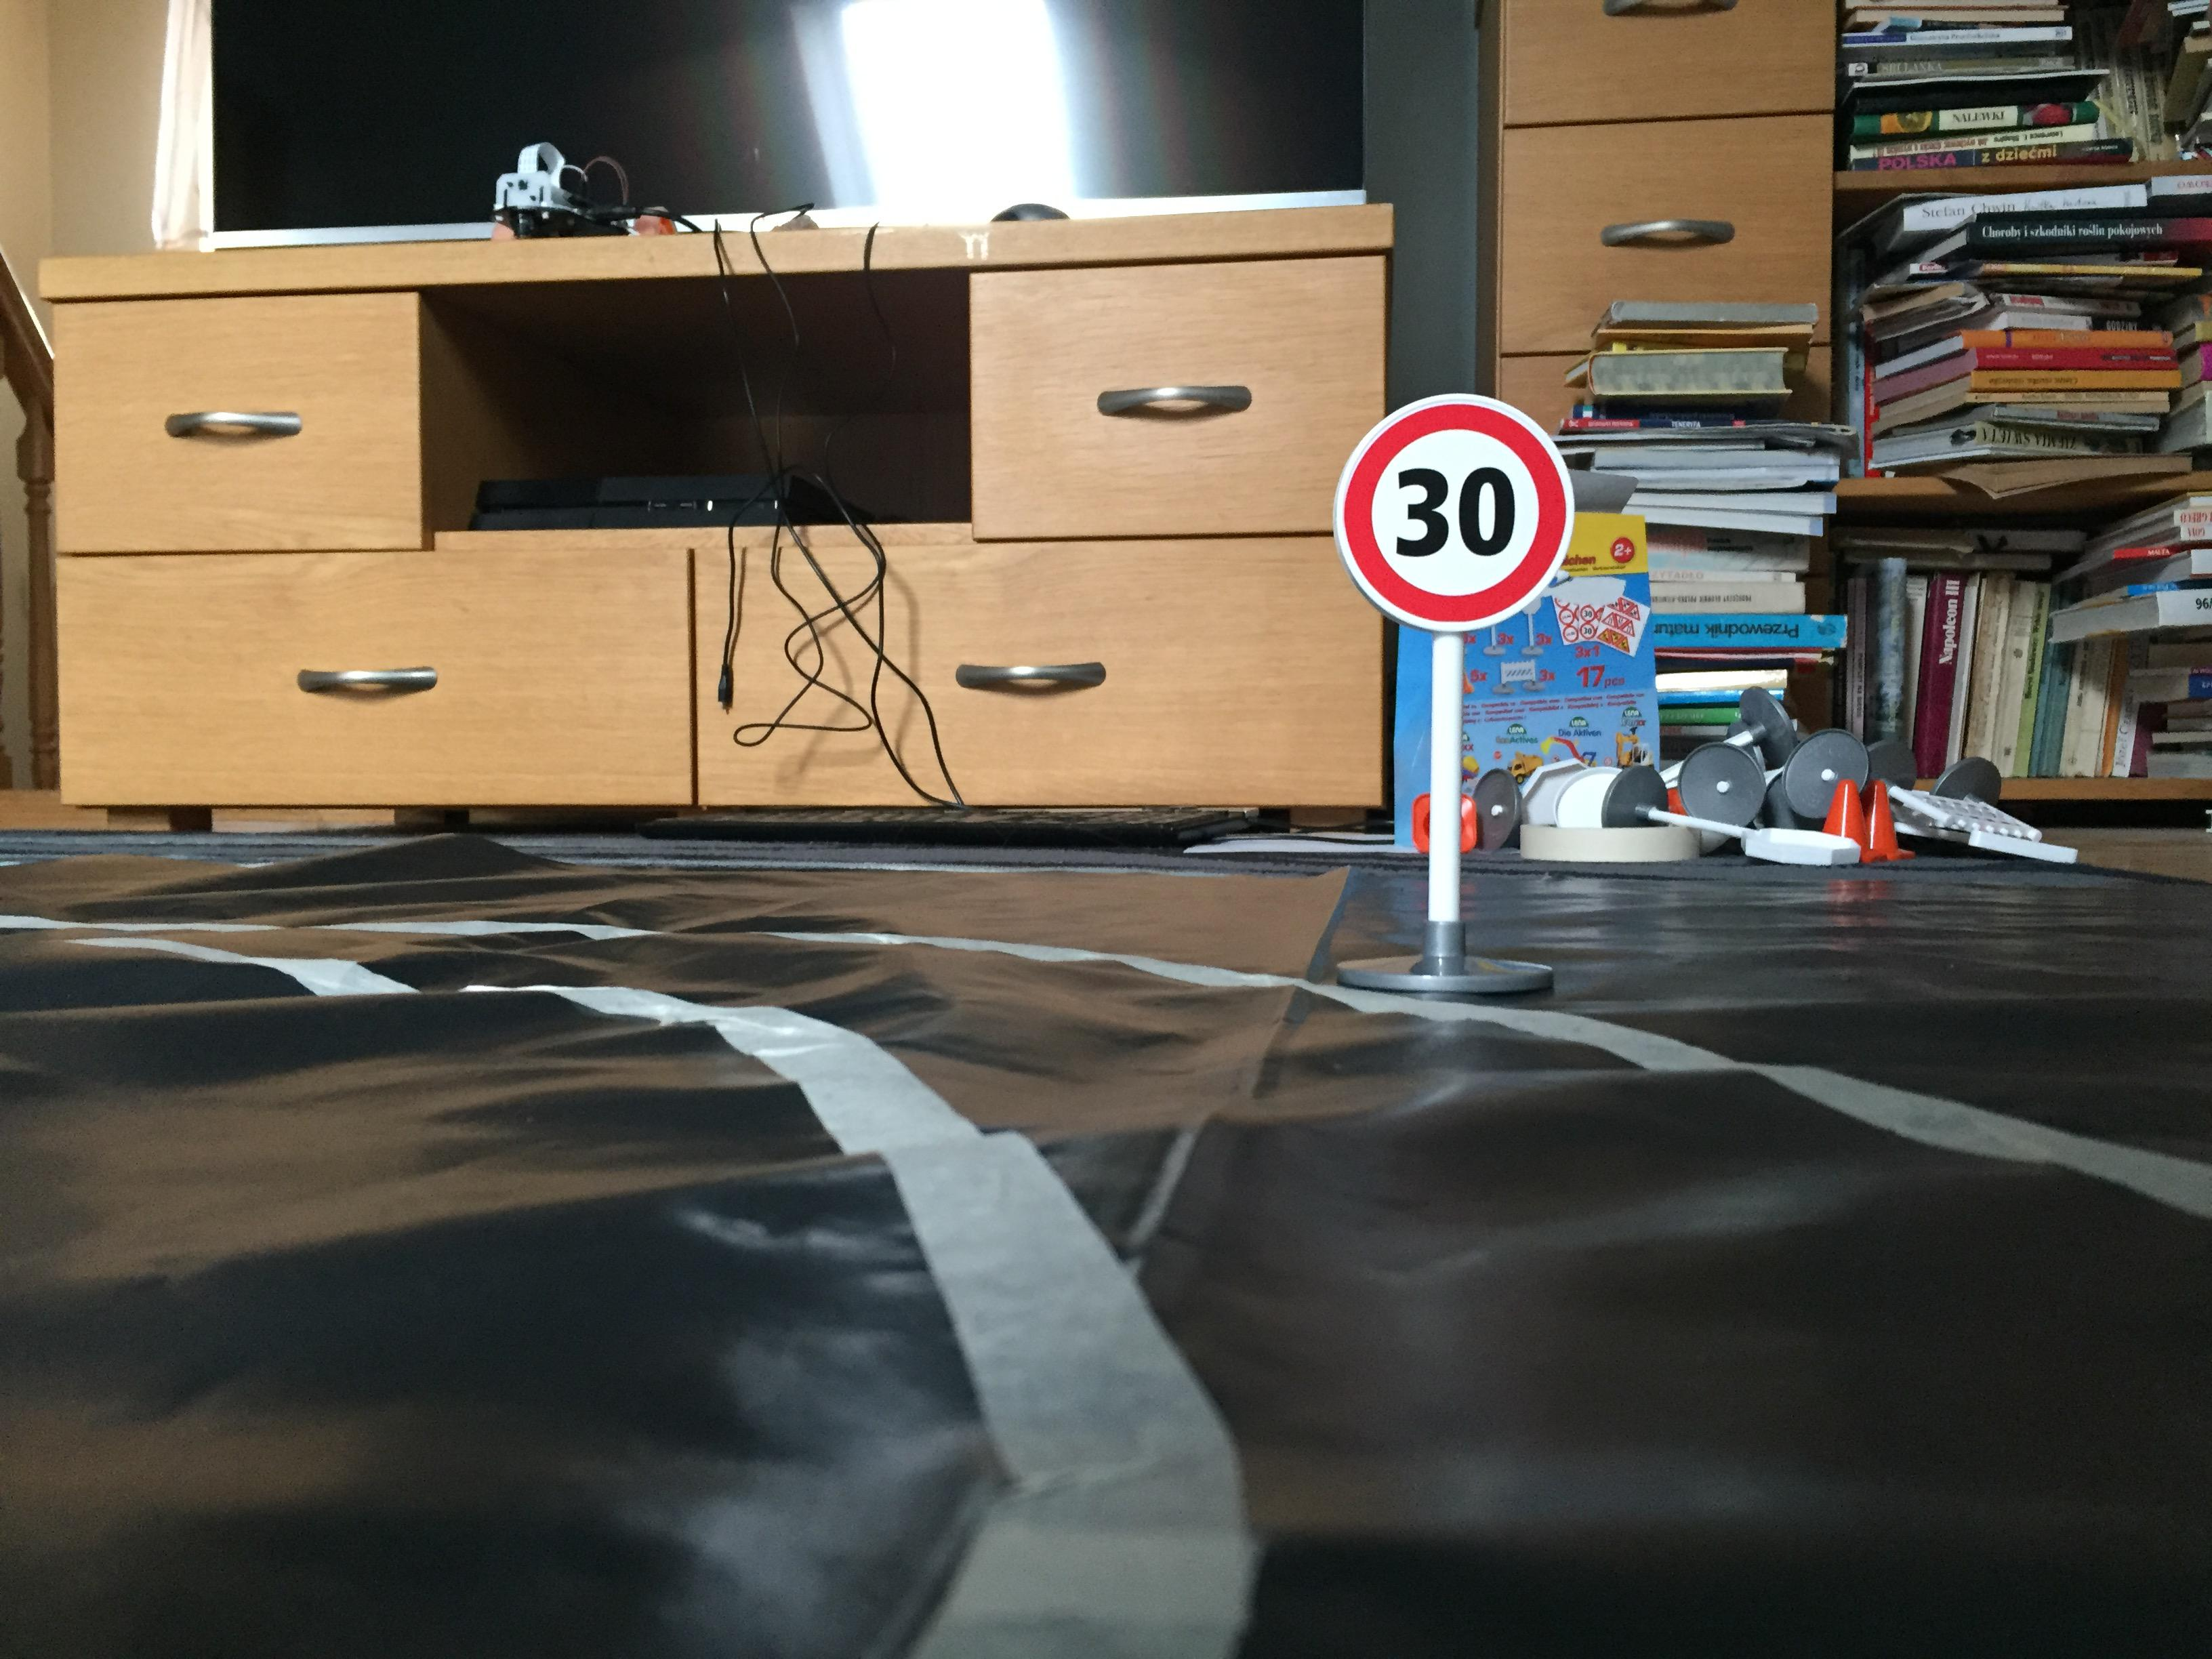speed: (1315, 382, 1583, 640)
